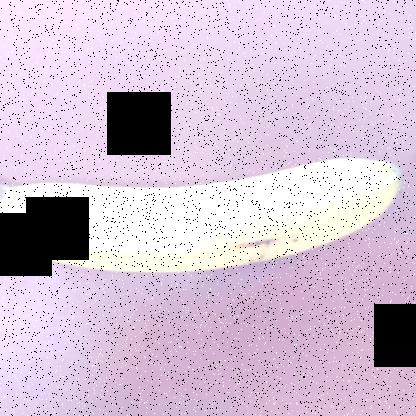freshripe: (1, 142, 400, 298)
